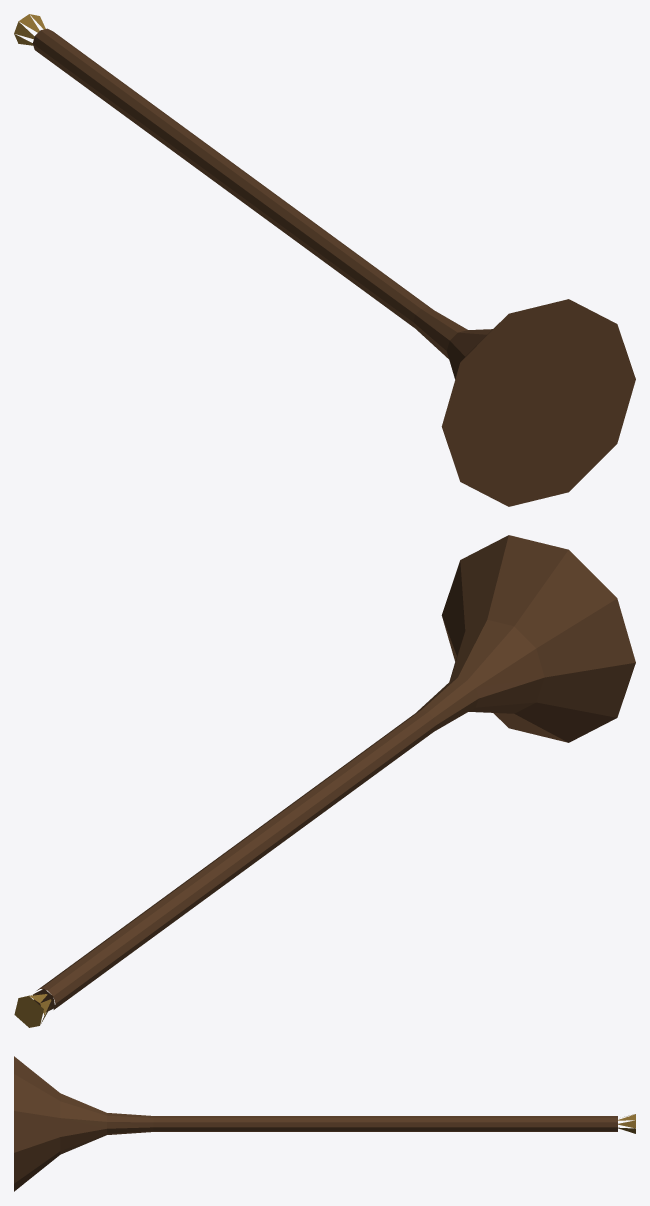
File: valahorn.lod.glb
The picture shows the model from 3 angles, top to bottom: view 1: azimuth 30°, elevation 25°; view 2: azimuth 150°, elevation 25°; view 3: azimuth 270°, elevation 25°; orthographic projection. The views are drawn at different scales.
Visible parts, largest first — view 1: m; view 2: m; view 3: m.
Part boxes in pixels (<box>): m: <box>14,14,635,506</box>; m: <box>14,535,635,1027</box>; m: <box>14,1056,635,1191</box>.
Size of the model in its own units: 0.1981 by 0.1883 by 0.9.
